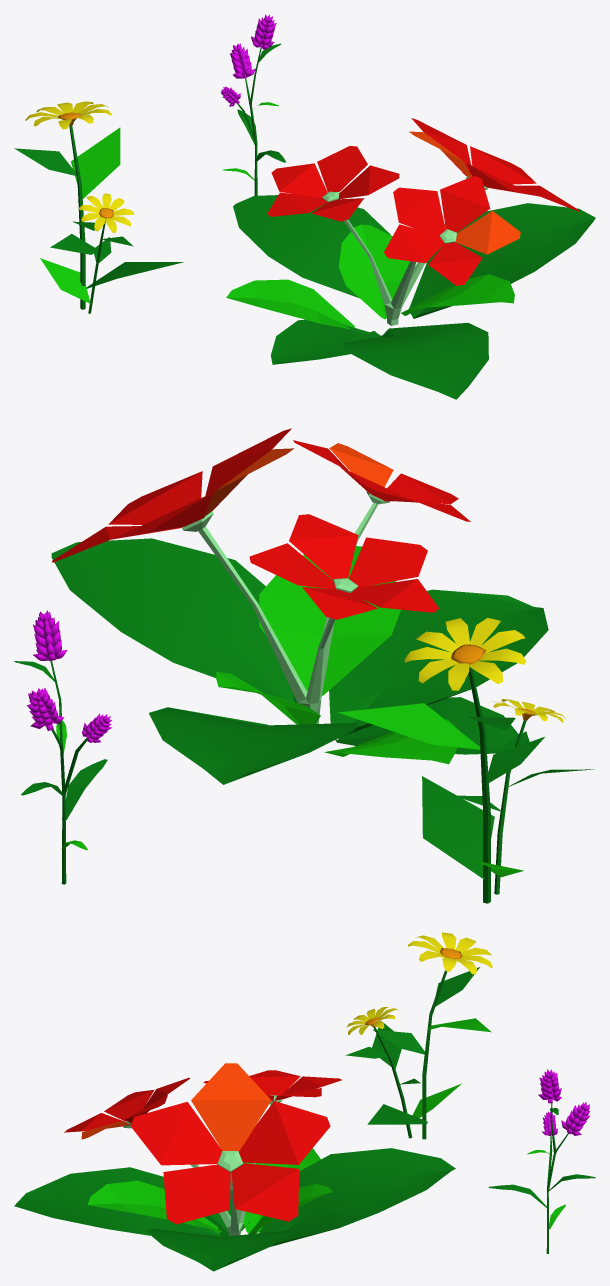
The model's file is flowers.glb.
3 views of the same model, one above another, from view 1: azimuth 30°, elevation 25°; view 2: azimuth 150°, elevation 25°; view 3: azimuth 270°, elevation 25° (orthographic). The views are drawn at different scales.
Visible parts, largest first — view 1: Cube.001; view 2: Cube.001; view 3: Cube.001.
Part boxes in pixels (<box>): Cube.001: <box>14,14,595,399</box>; Cube.001: <box>14,428,594,903</box>; Cube.001: <box>14,932,595,1271</box>.
Bounding box in the file's own units: 0.8323 × 0.3506 × 0.8967.
